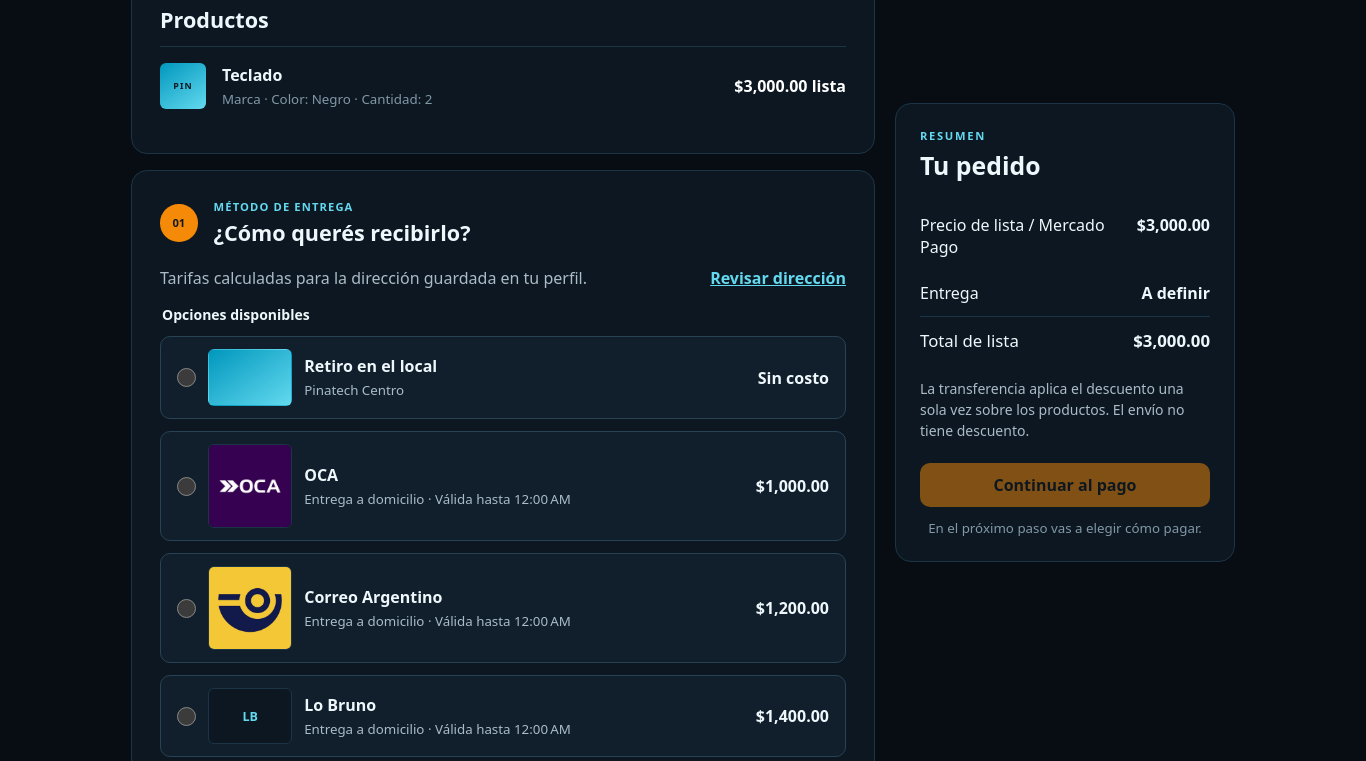
it: CheckoutComponent › shows every Zipnova carrier beside pickup and applies known carrier logos
(page scrolled)
Expected: the number of elements with class "delivery-card" is 4, top-left (160, 336), bottom-right (846, 419); top-left (160, 431), bottom-right (846, 541); top-left (160, 553), bottom-right (846, 663); top-left (160, 675), bottom-right (846, 757)
Expected: the picture in the row of "$1,000.00" is shown, top-left (209, 445), bottom-right (291, 527)
Click the radio button labelled "Retiro en el local Pinatech Centro Sin costo" at coordinates (187, 378), box top-left (177, 368), bottom-right (196, 387)
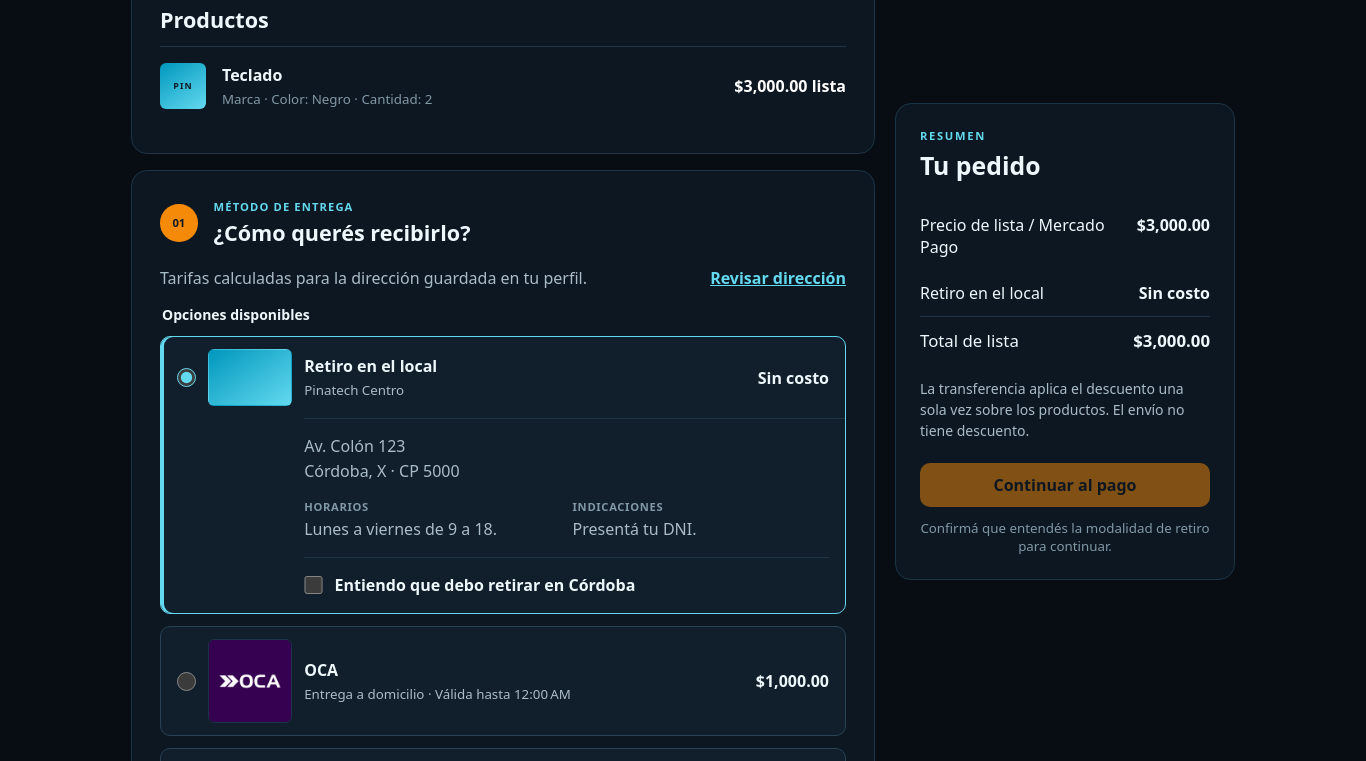
Now the text "Av. Colón 123" is shown, box top-left (304, 435), bottom-right (406, 457)
Click the radio button labelled "OCA Entrega a domicilio · Válida hasta 12:00 AM $1,000.00" at coordinates (187, 681), box top-left (177, 672), bottom-right (196, 691)
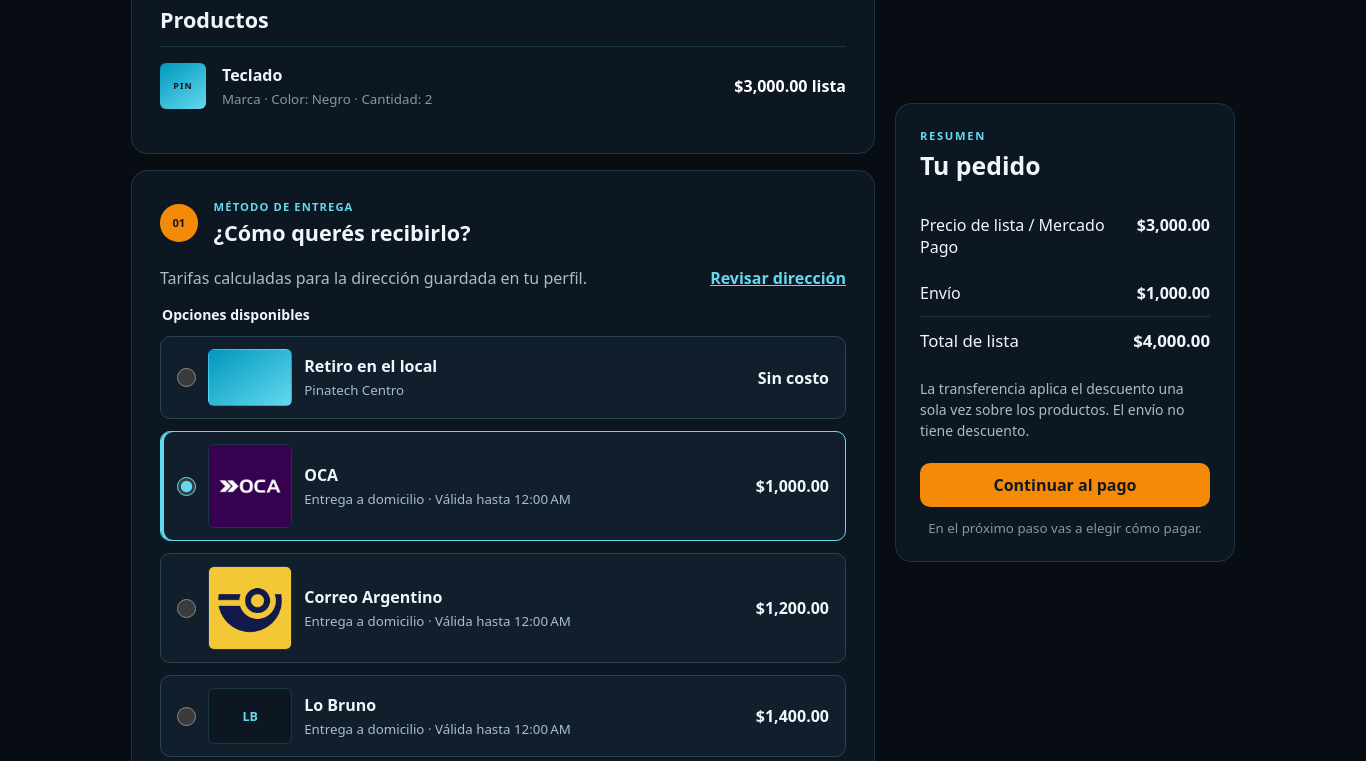
Now the text "Av. Colón 123" is gone
Now the label is gone
